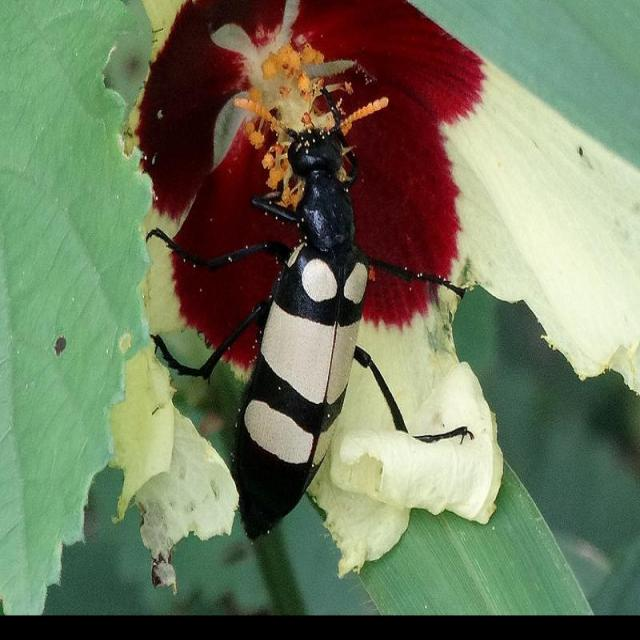BlisterBeetle-Adult-: (192, 102, 470, 528)
